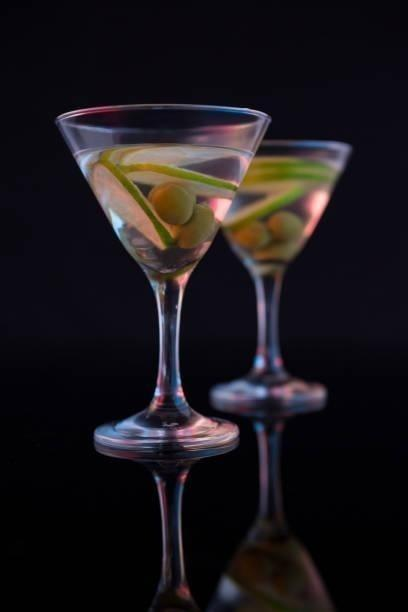glass-wine: (54, 102, 270, 457), (205, 137, 354, 414)
